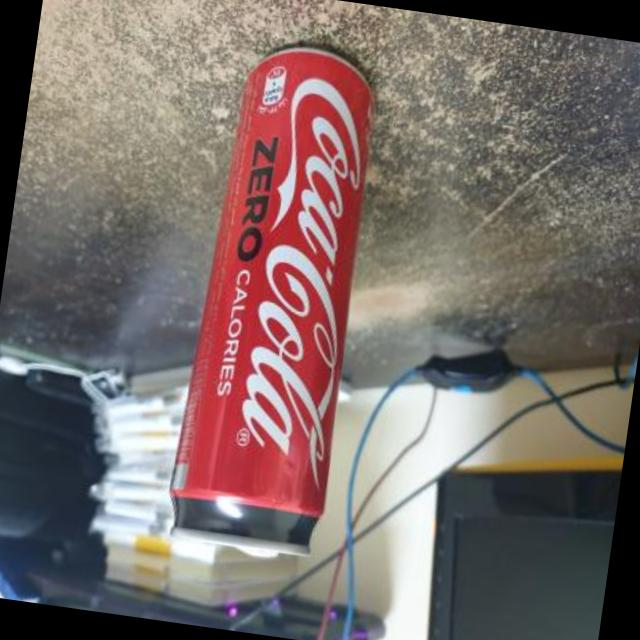metal: (173, 50, 373, 556)
